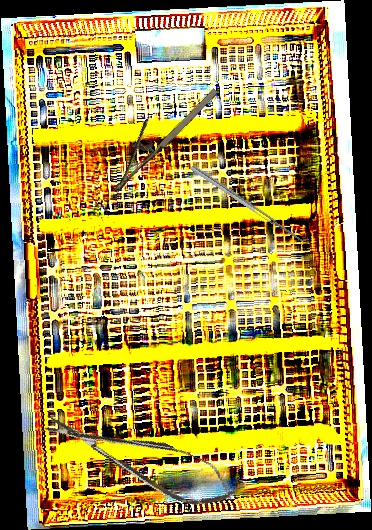Micro Scissor: (37, 394, 242, 521)
Needle Holder: (93, 71, 221, 194)
Spatula Surgical: (190, 159, 311, 247)
